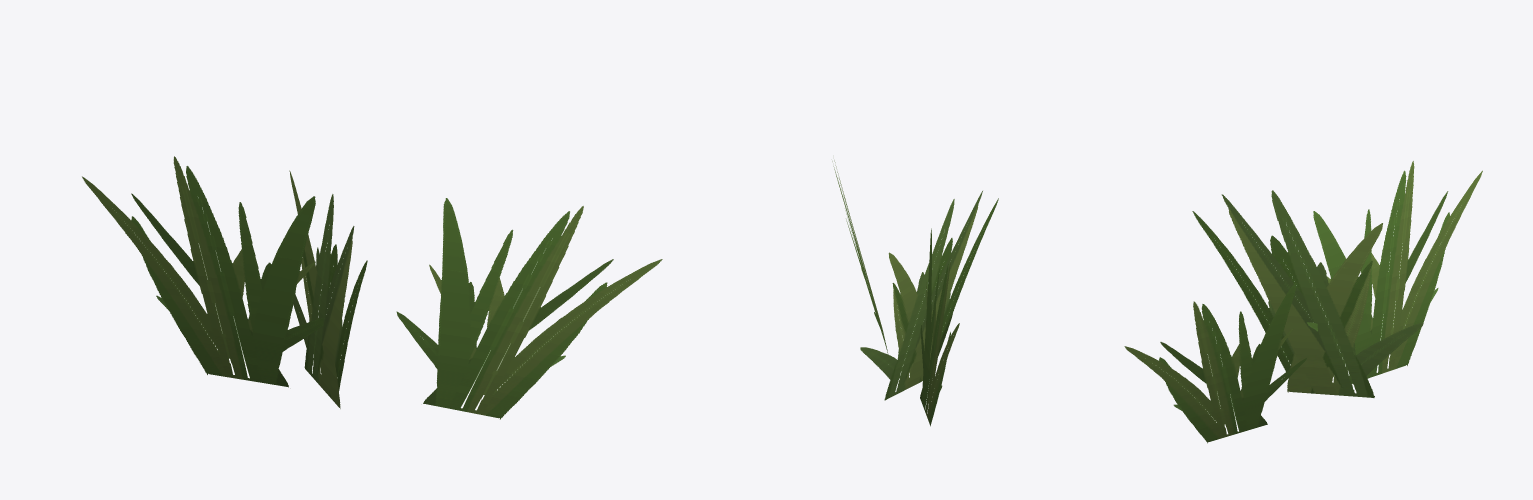
File: forest_grass_002_a_LOD2.gltf
3 renders of one model, left to right at view 1: azimuth 30°, elevation 25°; view 2: azimuth 150°, elevation 25°; view 3: azimuth 270°, elevation 25°, orthographic. The views are drawn at different scales.
Parts seen in each view (by area): view 1: forest_grass_002_a_LOD2; view 2: forest_grass_002_a_LOD2; view 3: forest_grass_002_a_LOD2.
Part boxes in pixels (box(x1,y1,x2,y2)): forest_grass_002_a_LOD2: box(82, 156, 662, 419); forest_grass_002_a_LOD2: box(832, 160, 998, 426); forest_grass_002_a_LOD2: box(1124, 161, 1482, 443).
Bounding box in the file's own units: 0.7448 × 0.5412 × 0.6572.
1 material, 1 textured.
